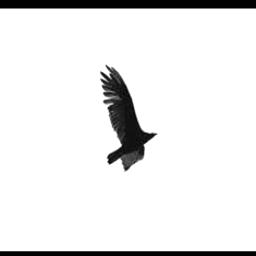Crow: (100, 63, 159, 171)
